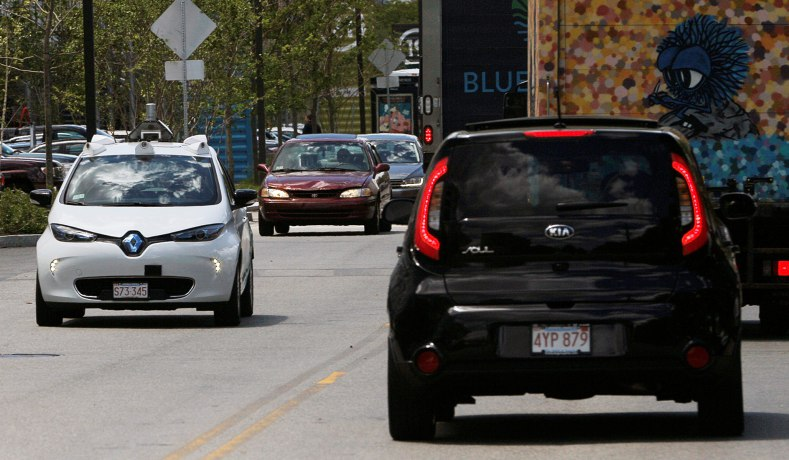car: (366, 99, 780, 453), (10, 116, 276, 347), (253, 122, 398, 241)
